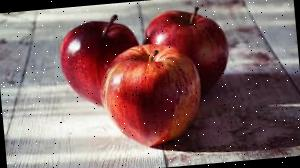Apple: (100, 41, 202, 150), (144, 3, 230, 98), (54, 17, 142, 107)
